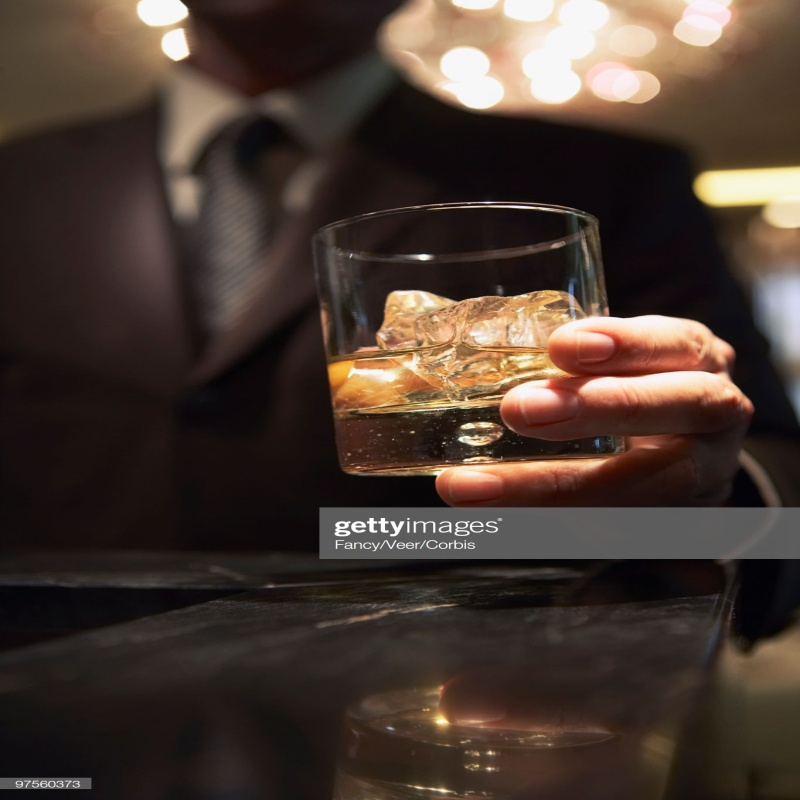whiskey: (317, 210, 609, 465)
